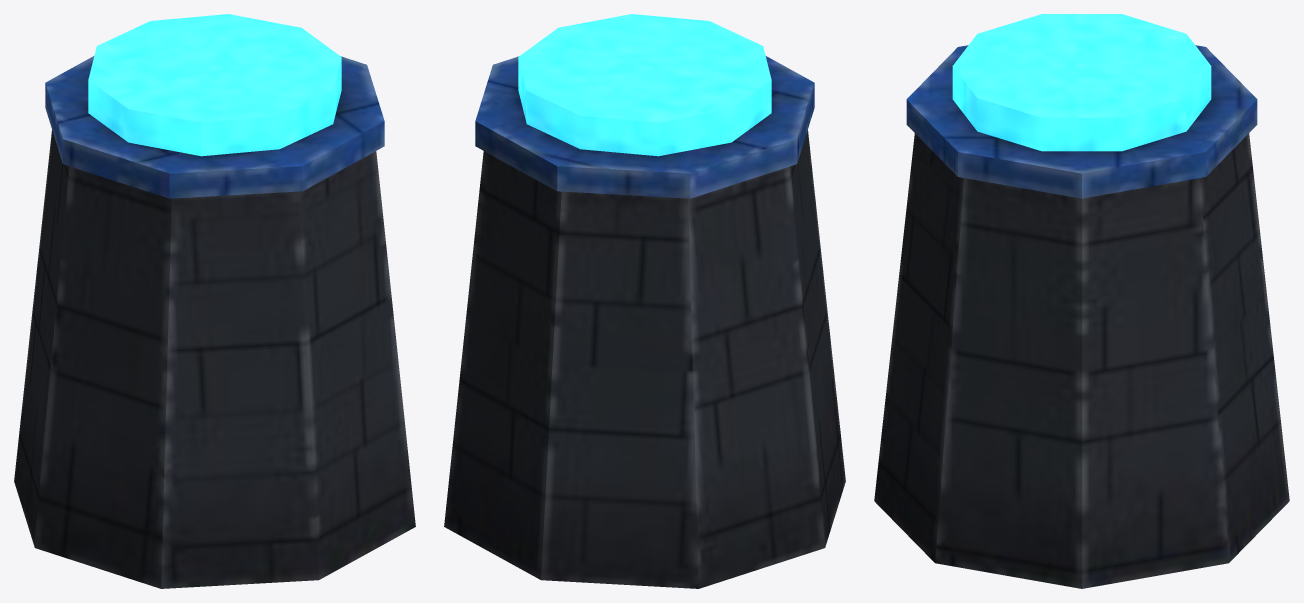
Rendered from btn_w.glb.
The picture shows the model from 3 angles, left to right: view 1: azimuth 30°, elevation 25°; view 2: azimuth 150°, elevation 25°; view 3: azimuth 270°, elevation 25°; orthographic projection.
Visible parts, largest first — view 1: btn_w; view 2: btn_w; view 3: btn_w.
Part boxes in pixels (x1,y1,x2,y2): btn_w: [14, 14, 415, 588]; btn_w: [444, 14, 845, 588]; btn_w: [874, 14, 1289, 588].
Bounding box in the file's own units: 0.9 × 1.04 × 0.9.
1 material, 1 textured.
